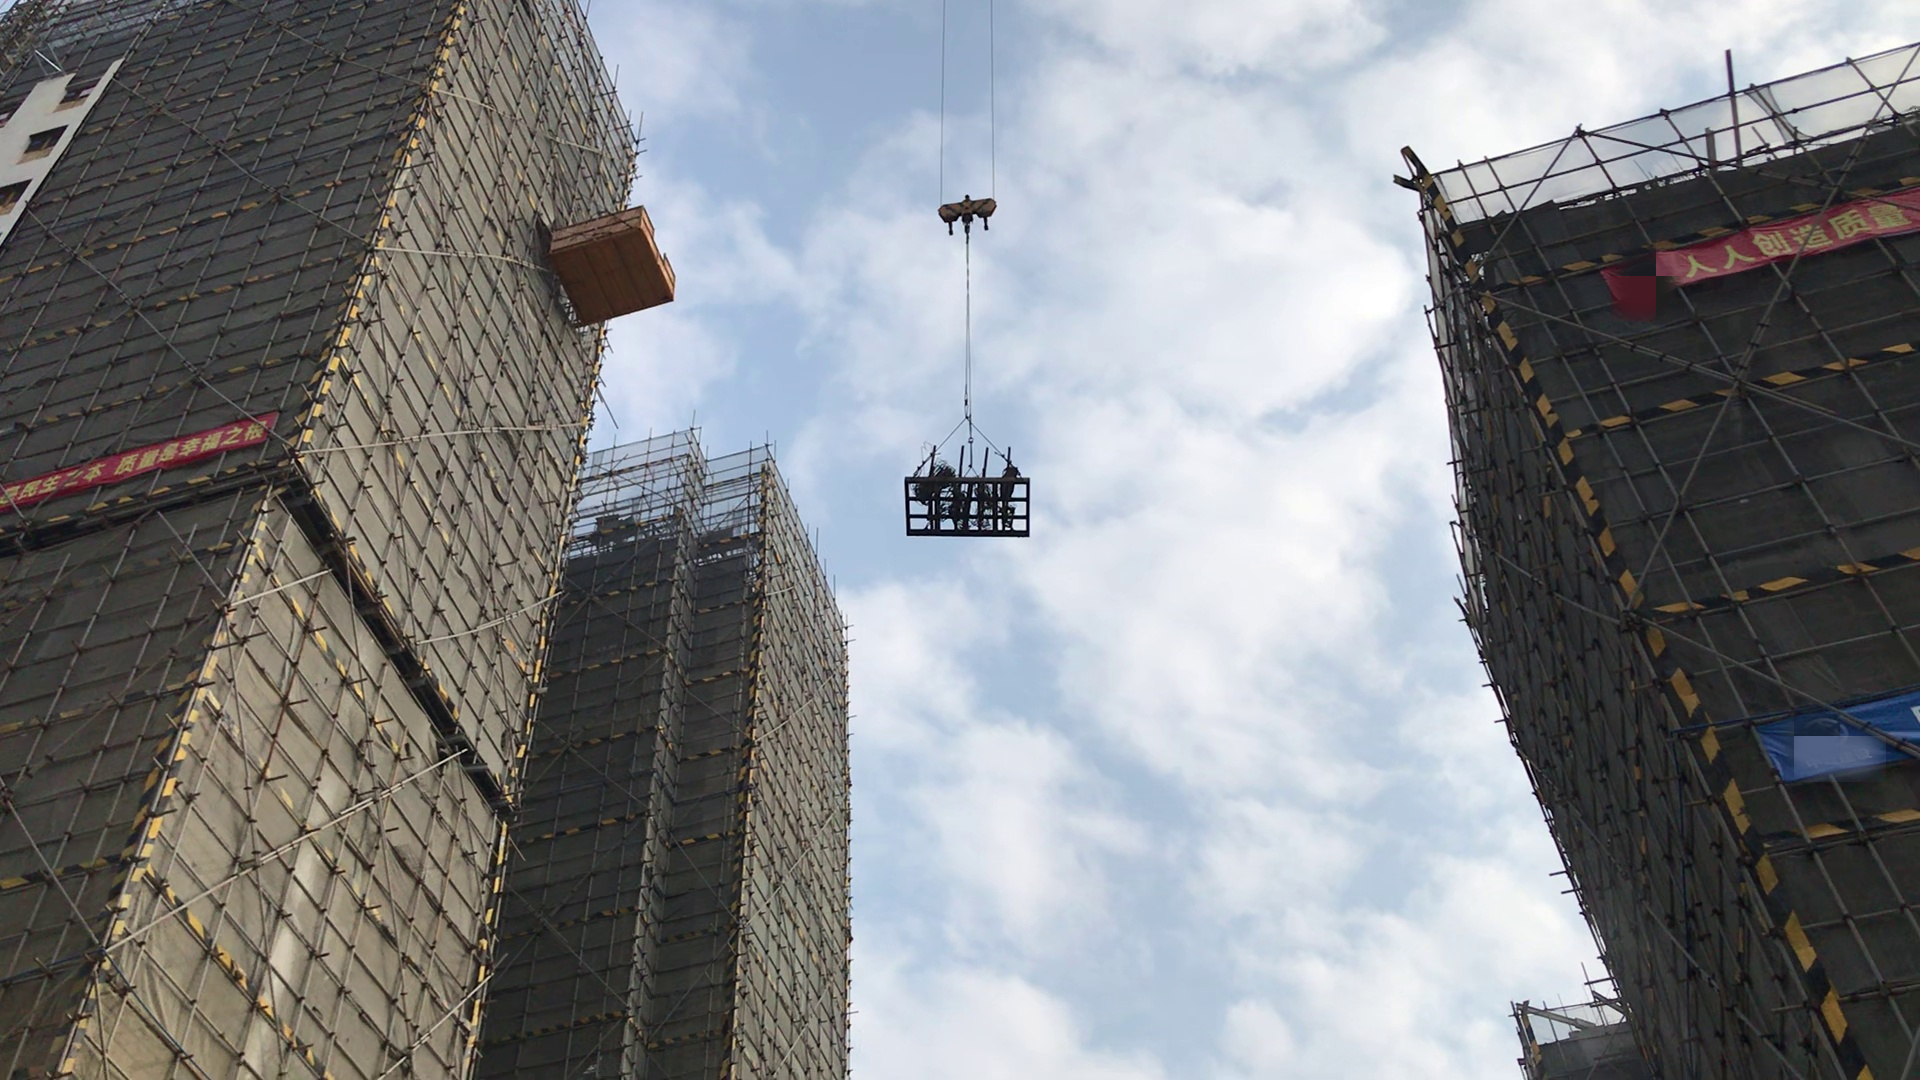hook: (932, 173, 1015, 237)
slogan: (1644, 204, 1920, 297), (11, 433, 273, 514)
